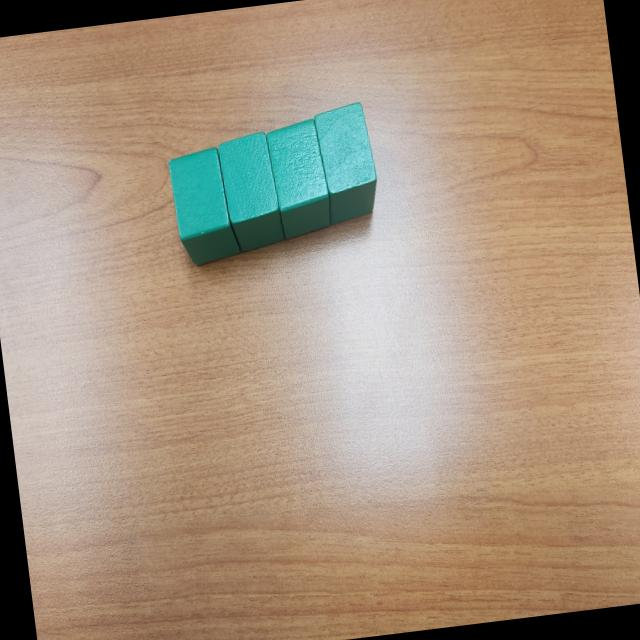green: (166, 145, 241, 266), (215, 130, 286, 254), (264, 116, 334, 241), (313, 100, 382, 225)
